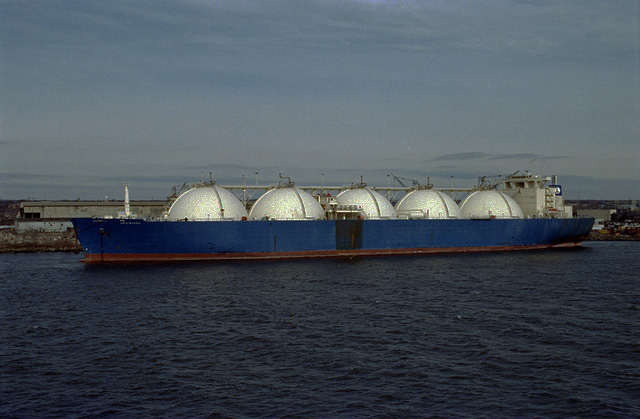LNG_ship: (71, 168, 600, 253)
